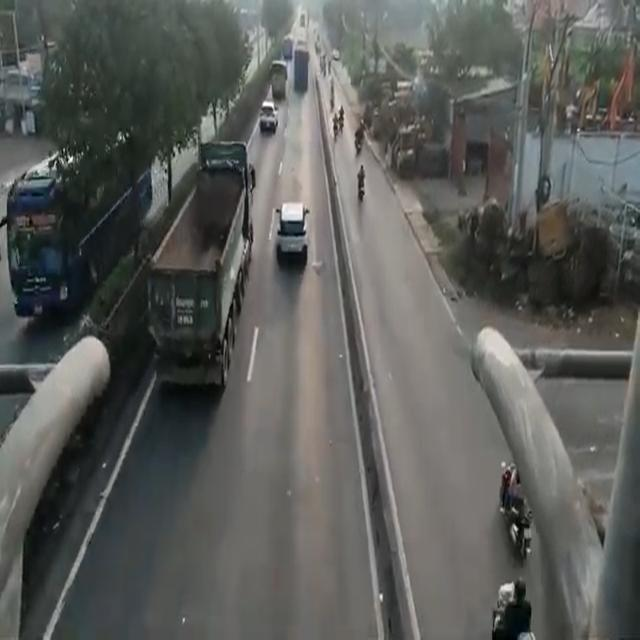bus: (8, 141, 128, 297)
car: (277, 198, 310, 272), (259, 103, 278, 136)
motor: (499, 469, 529, 559), (491, 583, 527, 638), (357, 167, 364, 210)
truck: (151, 137, 256, 387), (293, 46, 309, 92)
